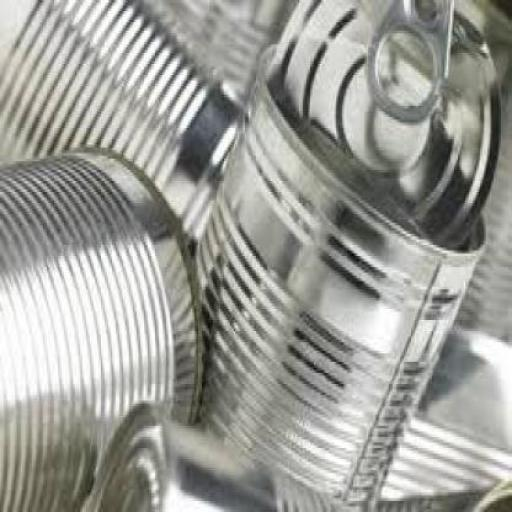metal: (191, 0, 501, 510), (0, 147, 204, 510), (267, 0, 501, 247), (0, 0, 247, 226), (82, 404, 359, 510), (381, 322, 510, 501), (136, 0, 286, 112), (364, 0, 456, 123), (366, 478, 510, 510)
